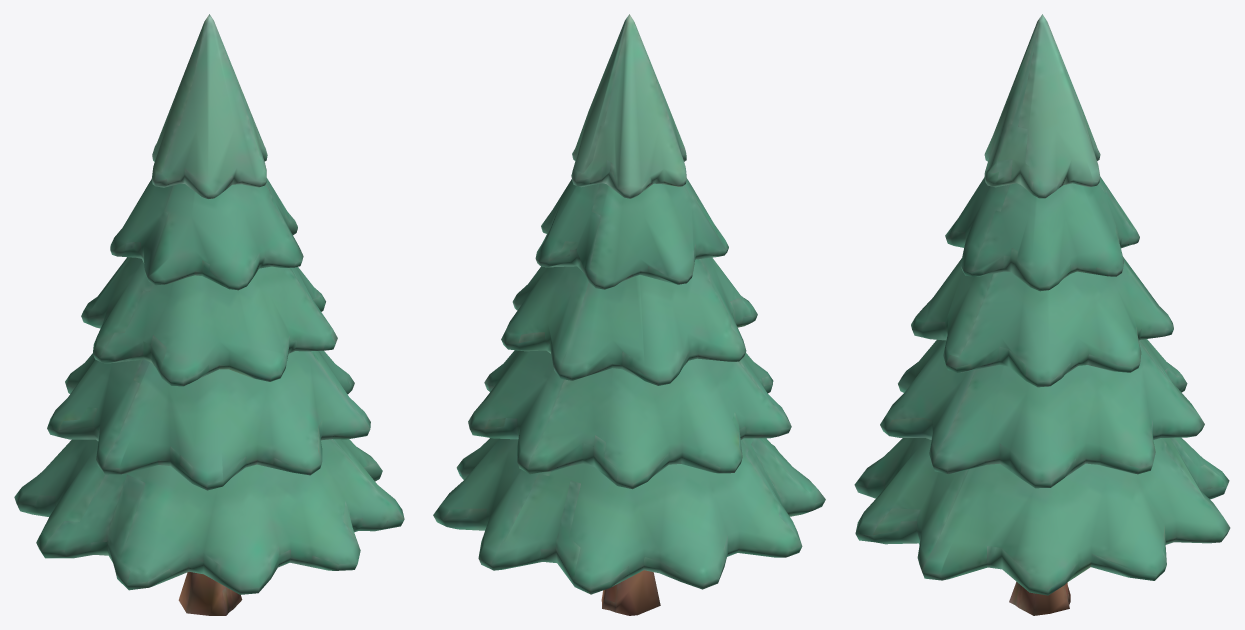
Rendered from pine.glb.
3 views of the same model, side by side, from view 1: azimuth 30°, elevation 25°; view 2: azimuth 150°, elevation 25°; view 3: azimuth 270°, elevation 25° (orthographic).
Parts seen in each view (by area): view 1: pine-tree_body; view 2: pine-tree_body; view 3: pine-tree_body.
Part boxes in pixels (x1=…): pine-tree_body: x1=14, y1=14, x2=404, y2=615; pine-tree_body: x1=433, y1=14, x2=825, y2=615; pine-tree_body: x1=854, y1=14, x2=1230, y2=615.
Size of the model in its own units: 3.45 by 5.7 by 3.3.
Materials: 1 (1 with a texture image).
